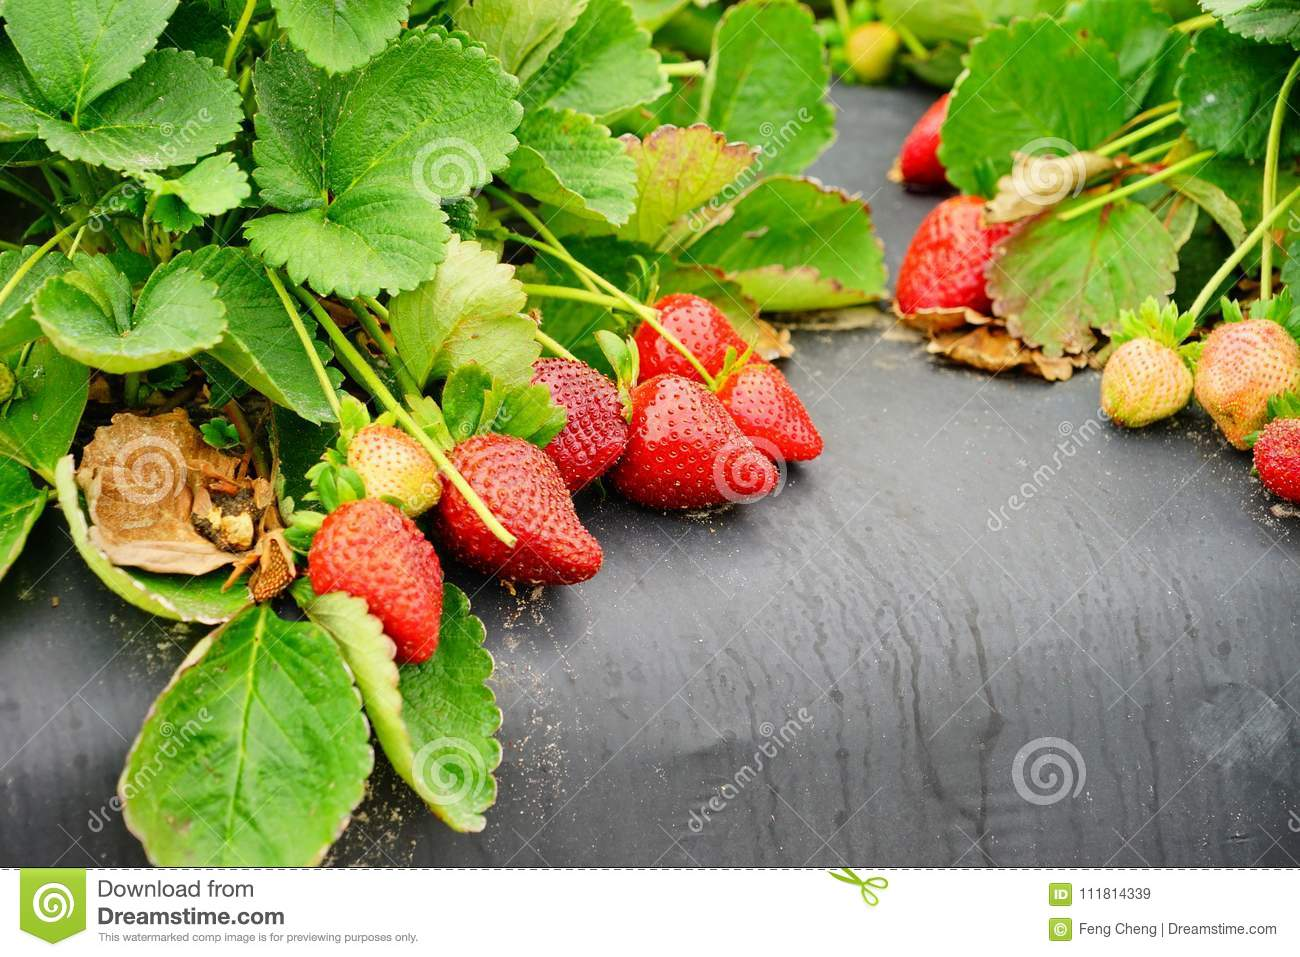ripe: (623, 291, 829, 468), (437, 433, 606, 598), (303, 497, 448, 675), (608, 369, 775, 517), (893, 191, 1022, 333), (520, 350, 630, 478), (893, 77, 979, 194), (1251, 409, 1296, 509)
unripe: (1196, 314, 1300, 461), (334, 413, 453, 523), (1099, 327, 1195, 436), (244, 525, 299, 611)
